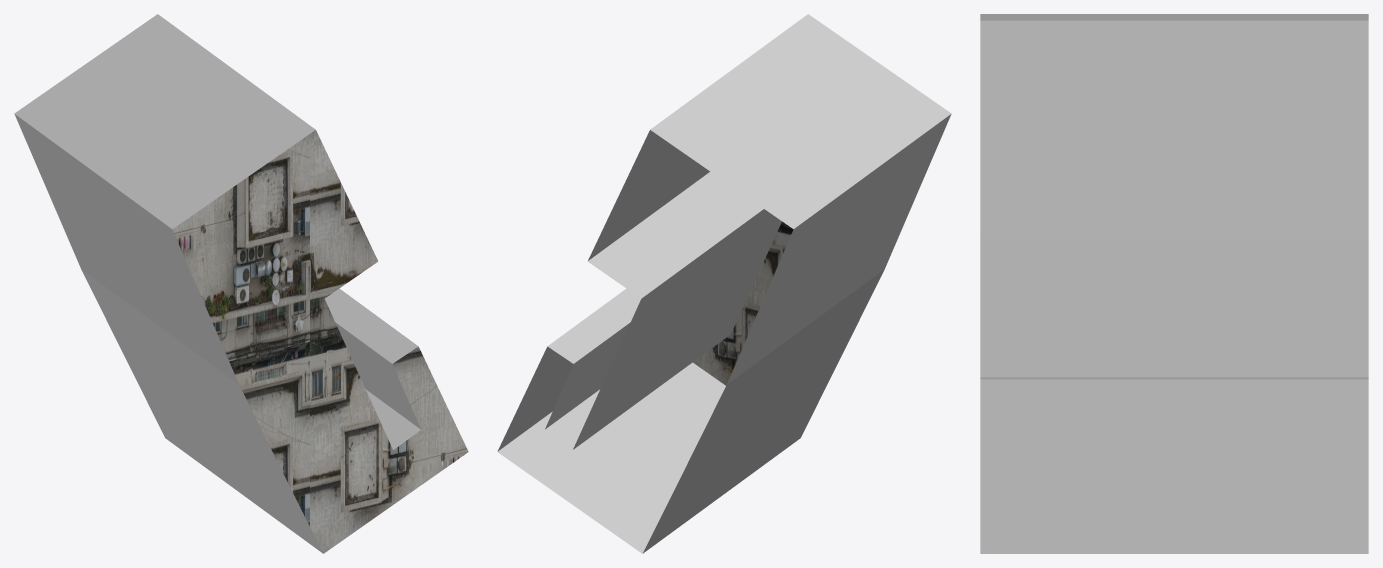
The model's file is geospecific_1353.obj.
3 renders of one model, left to right at view 1: azimuth 30°, elevation 25°; view 2: azimuth 150°, elevation 25°; view 3: azimuth 270°, elevation 25°, orthographic. The views are drawn at different scales.
Parts seen in each view (by area): view 1: Building; view 2: Building; view 3: Building.
Boxes of the visible parts, box(x1,y1,x2,y2) form: Building: box(14, 14, 468, 553); Building: box(497, 14, 951, 553); Building: box(980, 14, 1368, 553).
Bounding box in the file's own units: 9.74 × 13.38 × 9.
